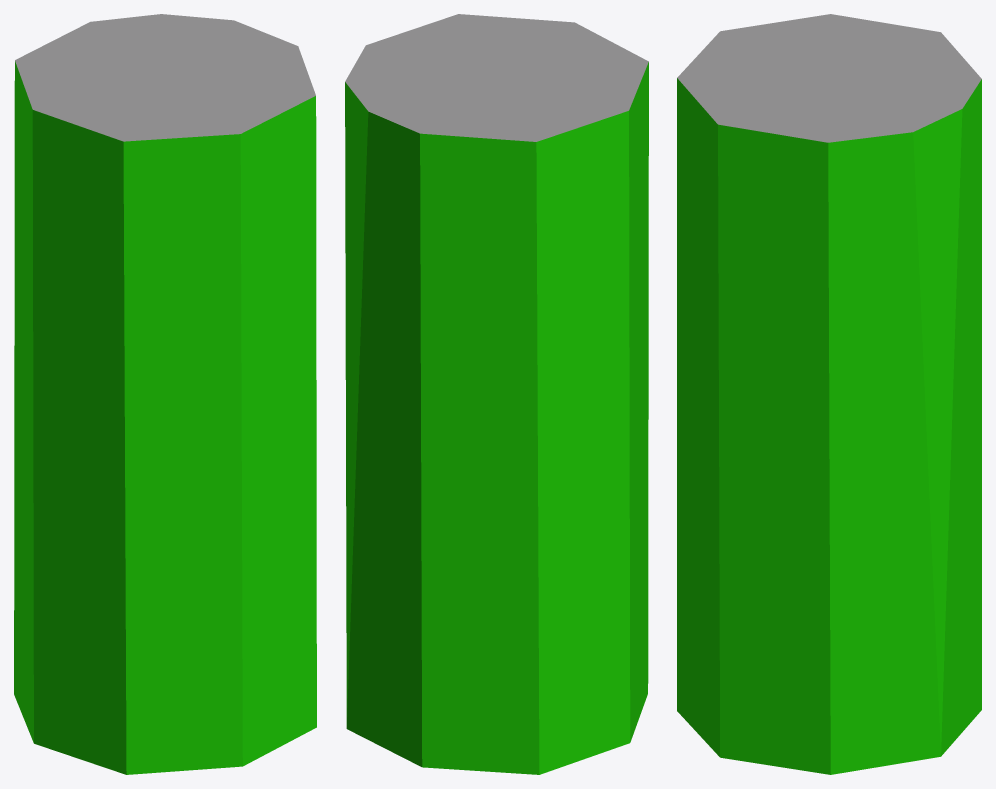
The model's file is crisps.fbx.
The picture shows the model from 3 angles, left to right: view 1: azimuth 30°, elevation 25°; view 2: azimuth 150°, elevation 25°; view 3: azimuth 270°, elevation 25°; orthographic projection.
Visible parts, largest first — view 1: Cylinder; view 2: Cylinder; view 3: Cylinder.
Part boxes in pixels (x1,y1,x2,y2): Cylinder: (14,14,316,774); Cylinder: (345,14,648,774); Cylinder: (677,14,981,774).
Size of the model in its own units: 203 by 463 by 203.
